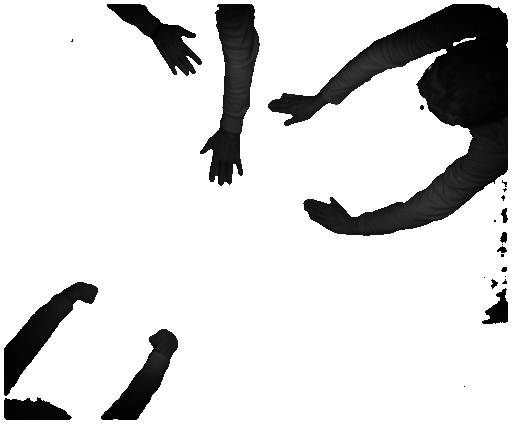fist: (149, 328, 183, 355), (73, 280, 103, 309)
hand: (155, 26, 207, 79), (296, 192, 354, 239), (200, 135, 247, 191), (269, 93, 323, 127)
